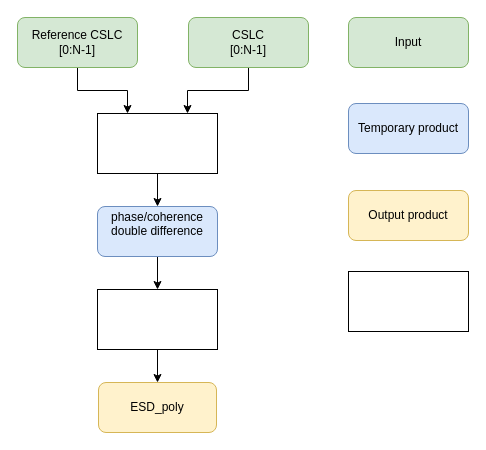
This 486x450 diagram has some shape labels left out. Here are the shapes that lost their labels. From the top down, the centre of each, then its label:
the point at 157,143: int/cohe
the point at 157,319: Robust 2D fit
the point at 408,301: Processing block
